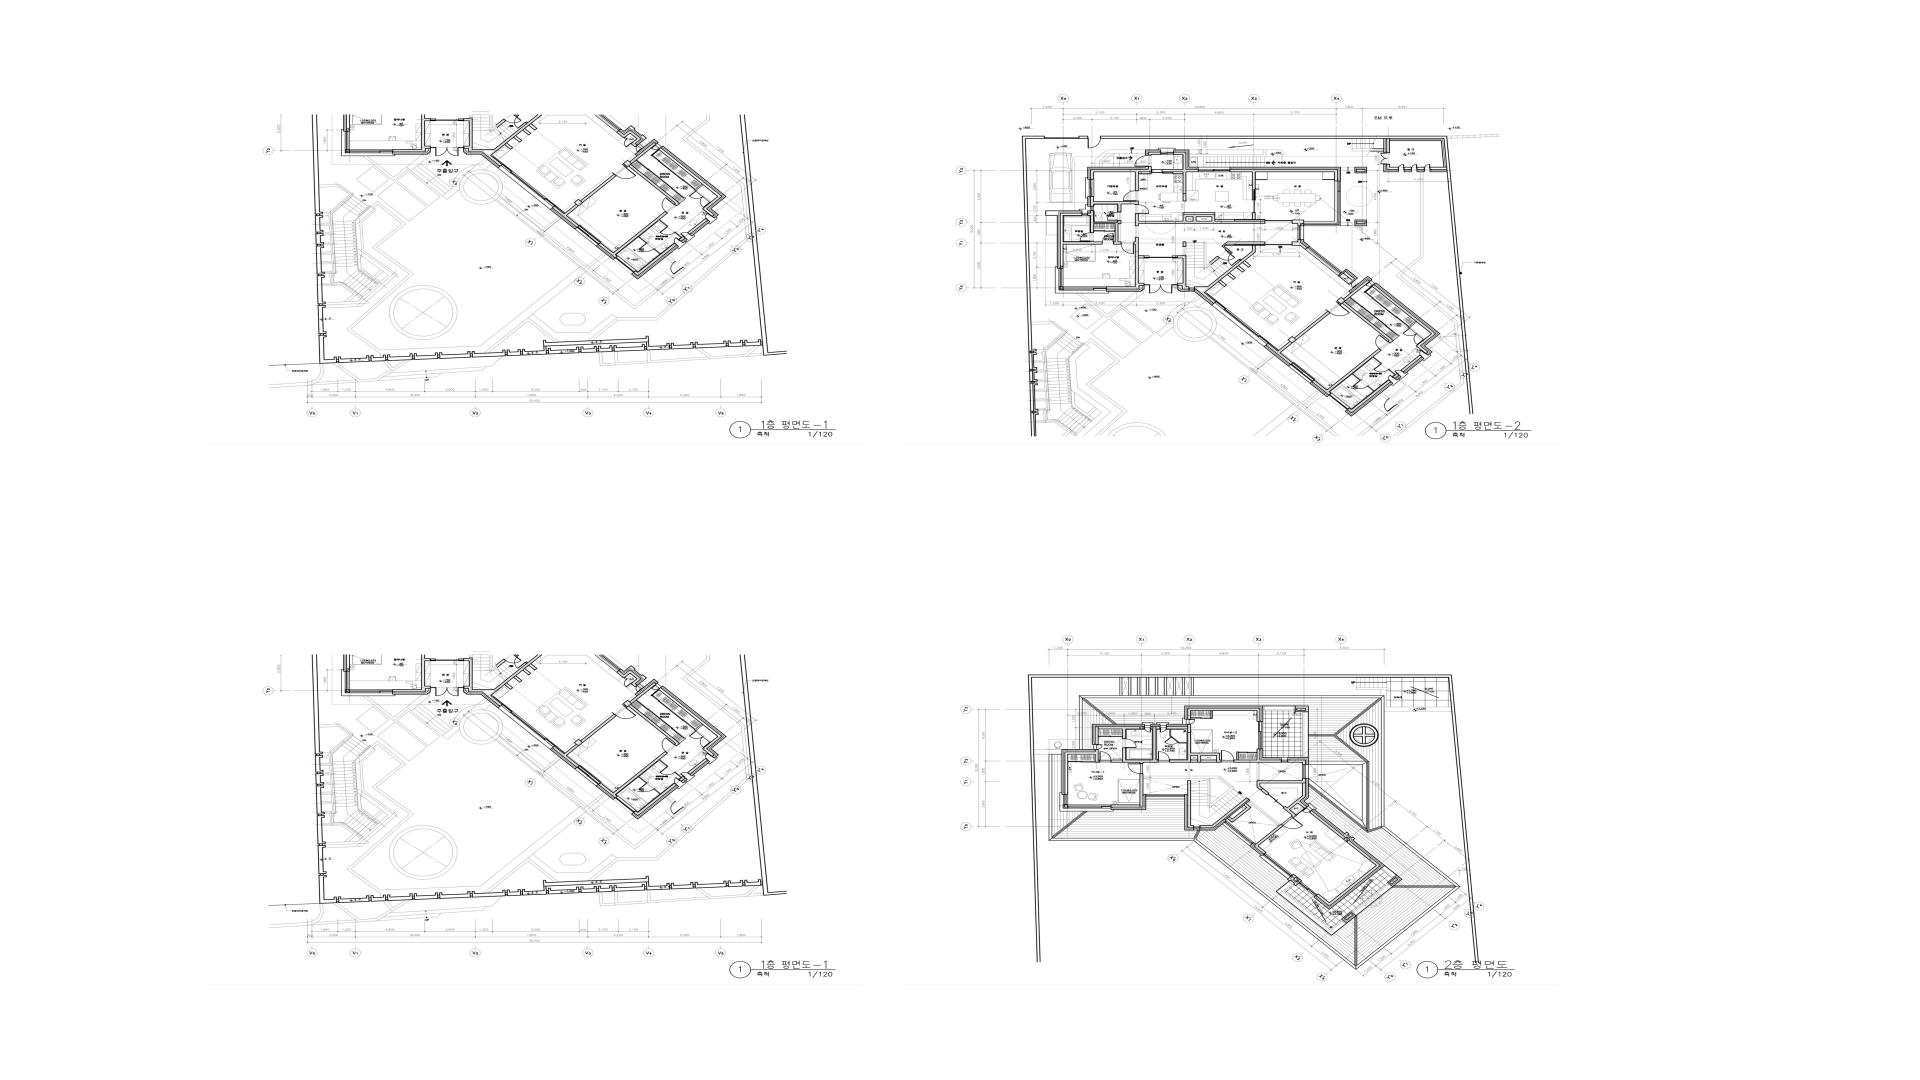door: (615, 705, 637, 724), (615, 166, 637, 183), (1328, 303, 1350, 320), (1282, 816, 1303, 833), (657, 196, 676, 212), (657, 737, 676, 753), (1370, 335, 1390, 351), (1267, 794, 1286, 808), (1217, 249, 1236, 264), (435, 146, 459, 156), (435, 687, 459, 696), (640, 782, 655, 795), (659, 765, 675, 778), (1224, 252, 1240, 265), (1150, 284, 1172, 293), (1373, 363, 1390, 375), (640, 243, 655, 255), (659, 225, 675, 237), (1353, 380, 1369, 392), (1134, 156, 1151, 166), (1164, 736, 1179, 748), (1127, 764, 1143, 774), (1221, 750, 1234, 762), (1088, 136, 1101, 148), (1121, 241, 1134, 253), (1234, 219, 1292, 222), (1124, 191, 1139, 200), (1122, 738, 1137, 748), (1135, 204, 1150, 214), (1100, 752, 1112, 762), (1158, 752, 1170, 762), (1106, 212, 1121, 220), (1080, 233, 1095, 241), (1102, 233, 1113, 244), (621, 138, 632, 148), (621, 678, 632, 687), (1251, 189, 1255, 212), (1145, 256, 1178, 258), (431, 119, 463, 121), (431, 658, 463, 661), (1381, 153, 1389, 164), (1183, 193, 1187, 212), (1234, 244, 1292, 245), (1151, 171, 1172, 174)
wall: (1193, 837, 1356, 969), (1448, 678, 1480, 963), (1356, 886, 1461, 969), (1444, 138, 1473, 414), (1381, 825, 1461, 886), (1029, 674, 1040, 963), (1371, 284, 1433, 334), (658, 687, 720, 736), (658, 148, 720, 196), (1327, 348, 1382, 392), (487, 654, 542, 698), (613, 211, 669, 255), (613, 752, 669, 794), (487, 115, 542, 157), (1022, 138, 1033, 351), (1329, 865, 1381, 906), (1342, 302, 1394, 343), (629, 704, 678, 744), (629, 165, 678, 203), (1208, 251, 1255, 289), (633, 243, 679, 280), (633, 782, 679, 819), (1033, 674, 1452, 678), (1352, 380, 1391, 411), (580, 174, 617, 203), (1294, 311, 1331, 340), (580, 713, 617, 742), (1349, 840, 1386, 869), (1305, 247, 1342, 276), (1309, 808, 1345, 837), (1101, 136, 1448, 138), (1079, 695, 1385, 698), (1249, 800, 1279, 825), (1221, 798, 1250, 820), (1266, 343, 1292, 365), (553, 745, 579, 767), (629, 142, 657, 164), (1255, 824, 1283, 845), (629, 682, 657, 703), (1029, 351, 1035, 436), (1344, 280, 1370, 301), (553, 206, 579, 227), (1381, 695, 1385, 827), (1211, 786, 1234, 806), (595, 654, 618, 673), (595, 115, 618, 132), (1048, 837, 1195, 840), (1400, 355, 1423, 372), (687, 218, 708, 235), (1313, 893, 1335, 910), (702, 194, 723, 211), (1048, 754, 1052, 840), (702, 735, 723, 750), (687, 758, 708, 774), (1312, 380, 1332, 396), (599, 782, 618, 798), (599, 243, 618, 258), (1062, 749, 1068, 794), (1139, 220, 1212, 224), (1230, 169, 1338, 171), (1419, 331, 1436, 345), (1249, 843, 1267, 856), (1060, 212, 1064, 269), (1079, 695, 1083, 749), (1184, 794, 1191, 825), (1233, 807, 1249, 820), (1184, 705, 1263, 708), (1212, 818, 1226, 831), (1191, 708, 1263, 711), (1204, 256, 1220, 268), (1135, 237, 1139, 282), (488, 695, 502, 707), (564, 744, 579, 756), (564, 204, 579, 215), (1203, 293, 1217, 303), (1278, 342, 1292, 352), (1295, 798, 1309, 808), (488, 156, 502, 166), (1095, 169, 1151, 171), (1068, 749, 1095, 754), (1092, 724, 1145, 727), (1216, 222, 1266, 224), (1139, 774, 1143, 807), (421, 654, 425, 686), (1234, 760, 1282, 762), (1352, 148, 1383, 152), (1092, 727, 1098, 745), (1098, 727, 1145, 729), (1170, 760, 1216, 762), (421, 115, 425, 145), (1287, 757, 1309, 762), (1302, 783, 1309, 798), (1166, 724, 1187, 729), (1183, 255, 1187, 282), (630, 676, 642, 686), (1283, 806, 1295, 815), (1187, 732, 1191, 760), (1416, 344, 1428, 353), (1095, 202, 1135, 204), (1261, 781, 1302, 783), (1226, 241, 1266, 244), (1064, 241, 1102, 244), (1162, 169, 1199, 171), (1287, 800, 1298, 810), (1344, 272, 1354, 281), (1295, 705, 1309, 712), (1110, 807, 1146, 810), (630, 137, 642, 145), (1183, 171, 1187, 194), (1106, 286, 1139, 289), (1089, 222, 1122, 224), (481, 149, 495, 156), (1222, 245, 1233, 253), (1195, 289, 1211, 294), (704, 749, 715, 757), (704, 208, 715, 216), (1135, 171, 1139, 191), (1184, 708, 1191, 720), (1110, 804, 1139, 807), (1200, 825, 1215, 831), (504, 142, 513, 150), (522, 128, 531, 136), (659, 219, 669, 227), (694, 183, 703, 191), (622, 160, 632, 167), (1064, 212, 1083, 216), (469, 658, 472, 686), (393, 690, 421, 692), (630, 671, 640, 679), (574, 738, 583, 746), (638, 775, 647, 783), (513, 675, 522, 683), (1346, 836, 1356, 844), (1291, 876, 1300, 884), (1294, 878, 1303, 886), (1373, 356, 1382, 364), (1337, 297, 1346, 305), (469, 117, 472, 145), (393, 149, 421, 152), (1204, 241, 1207, 268), (481, 690, 495, 695), (1208, 781, 1211, 807), (1257, 711, 1263, 721), (1257, 749, 1263, 760), (1114, 224, 1118, 241), (1183, 152, 1187, 169), (345, 654, 349, 671), (1137, 678, 1141, 695), (1182, 678, 1185, 695), (1429, 166, 1447, 170), (345, 115, 349, 132), (1187, 214, 1212, 216), (1191, 753, 1216, 756), (1089, 210, 1095, 222), (1292, 219, 1304, 224), (1218, 280, 1226, 287), (1237, 265, 1245, 273), (1408, 320, 1416, 328), (574, 199, 583, 206), (638, 236, 647, 243), (513, 136, 522, 142), (529, 124, 538, 131), (650, 149, 659, 156), (1242, 261, 1251, 268), (1287, 336, 1296, 343), (1352, 373, 1361, 380), (621, 671, 630, 678), (504, 683, 513, 690), (522, 669, 531, 675), (529, 663, 538, 670), (659, 760, 669, 766), (694, 724, 703, 731), (650, 690, 659, 696), (622, 700, 632, 707), (1300, 795, 1309, 802), (1296, 808, 1305, 815), (1340, 832, 1349, 839), (1342, 835, 1352, 841), (1287, 874, 1296, 881), (1261, 789, 1270, 795), (1364, 286, 1373, 293), (1337, 270, 1346, 277), (621, 132, 630, 138), (630, 132, 640, 138), (1308, 712, 1309, 757), (1022, 136, 1044, 138), (1386, 138, 1390, 153), (1228, 273, 1236, 280), (1367, 385, 1375, 392), (1228, 816, 1236, 823), (1244, 803, 1251, 810), (1187, 781, 1191, 794), (616, 670, 624, 676), (674, 771, 682, 778), (1095, 749, 1098, 762), (1386, 166, 1399, 170), (1348, 278, 1356, 285), (1300, 243, 1308, 249), (1089, 224, 1095, 233), (1184, 825, 1193, 831), (1151, 724, 1160, 729), (1263, 757, 1282, 760), (1135, 214, 1139, 225), (1120, 678, 1122, 695), (1129, 678, 1131, 695), (1146, 678, 1149, 695), (1155, 678, 1158, 695), (1164, 678, 1167, 695), (1174, 678, 1176, 695), (1191, 678, 1193, 695), (654, 248, 661, 255), (1183, 212, 1216, 214), (679, 737, 686, 744), (679, 775, 686, 782), (674, 232, 682, 237), (1195, 286, 1211, 289), (1091, 196, 1095, 207), (1091, 169, 1095, 179), (1212, 214, 1216, 224), (1263, 705, 1295, 707), (1346, 407, 1354, 413), (421, 145, 431, 149), (616, 131, 624, 136), (1292, 241, 1302, 245), (1335, 171, 1338, 181), (1216, 753, 1220, 762), (679, 198, 686, 203), (632, 270, 638, 276), (679, 236, 686, 241), (1221, 241, 1228, 247), (1149, 152, 1162, 154), (1389, 369, 1395, 375), (468, 690, 481, 692), (1143, 794, 1146, 807), (674, 741, 680, 746), (654, 789, 661, 794), (632, 810, 638, 815), (1302, 778, 1308, 783), (1291, 812, 1298, 818), (1393, 373, 1399, 378), (468, 149, 481, 152), (1187, 724, 1191, 732), (421, 686, 431, 688), (674, 202, 680, 206), (1251, 245, 1255, 252), (1183, 214, 1187, 220), (1257, 781, 1261, 787), (1257, 786, 1263, 790), (1174, 152, 1183, 154), (1403, 166, 1412, 169), (1416, 166, 1425, 169), (1079, 136, 1088, 138), (1182, 286, 1189, 289), (1182, 282, 1187, 286), (1139, 282, 1145, 286), (1113, 241, 1121, 244), (1118, 204, 1121, 212), (1183, 241, 1187, 247), (421, 688, 426, 692), (1208, 803, 1213, 807), (628, 670, 633, 674), (633, 683, 638, 687), (1183, 247, 1185, 255), (463, 145, 468, 149), (628, 129, 633, 133), (633, 144, 638, 148), (463, 658, 469, 661), (425, 658, 431, 661), (1303, 762, 1309, 765), (463, 119, 469, 121), (425, 119, 431, 121), (1178, 282, 1182, 286), (1135, 282, 1139, 286), (1135, 200, 1139, 204), (468, 686, 472, 690), (1192, 216, 1196, 220), (468, 145, 472, 149), (1178, 256, 1183, 258), (1139, 256, 1145, 258), (463, 686, 468, 688), (421, 149, 426, 152), (624, 165, 628, 167), (1298, 239, 1302, 241), (1147, 166, 1151, 169), (624, 705, 628, 708), (1237, 752, 1238, 760), (1386, 164, 1390, 166), (1225, 249, 1228, 252), (1238, 258, 1241, 261), (1172, 284, 1178, 285), (1389, 340, 1391, 343), (1338, 302, 1341, 305), (431, 146, 435, 148), (459, 146, 463, 148), (1145, 284, 1149, 285), (1147, 154, 1151, 156), (1298, 224, 1302, 225), (431, 687, 435, 688), (459, 687, 463, 688), (1134, 241, 1135, 244), (1118, 220, 1121, 222), (1088, 212, 1089, 215), (1220, 760, 1221, 762), (1091, 241, 1095, 241), (1098, 762, 1100, 762), (1052, 754, 1062, 754)
window: (498, 164, 555, 210), (498, 704, 555, 749), (1215, 301, 1269, 344), (1304, 181, 1341, 225), (1224, 820, 1254, 844), (1263, 853, 1292, 877), (1288, 361, 1316, 384), (575, 224, 601, 247), (575, 765, 601, 786), (613, 256, 636, 274), (613, 796, 636, 814), (1329, 393, 1350, 409), (1298, 882, 1317, 897), (1063, 804, 1110, 808), (1059, 286, 1106, 290), (349, 149, 393, 153), (349, 690, 393, 694), (1258, 721, 1263, 749), (1199, 167, 1230, 171), (344, 671, 349, 694), (344, 132, 349, 153), (671, 237, 683, 247), (680, 231, 692, 240), (703, 212, 715, 222), (671, 777, 683, 786), (680, 770, 692, 779), (703, 753, 715, 762), (1394, 368, 1406, 377), (1146, 794, 1184, 796), (1302, 806, 1312, 815), (633, 683, 644, 692), (1418, 349, 1428, 359), (1089, 179, 1095, 196), (1387, 375, 1396, 384), (651, 144, 662, 152), (633, 144, 644, 152), (651, 683, 662, 691), (1365, 281, 1375, 287), (1059, 269, 1063, 286), (1063, 794, 1068, 804), (1298, 225, 1302, 239), (1185, 719, 1195, 724), (1145, 725, 1151, 732), (1349, 282, 1357, 287), (1093, 745, 1102, 749), (1160, 725, 1166, 732), (1303, 765, 1305, 778), (1399, 164, 1404, 170), (1162, 152, 1174, 154), (1193, 827, 1200, 831), (1189, 287, 1195, 291), (1412, 164, 1416, 169), (1425, 164, 1429, 169), (1091, 207, 1095, 211), (1282, 760, 1287, 762), (1083, 212, 1088, 215)
